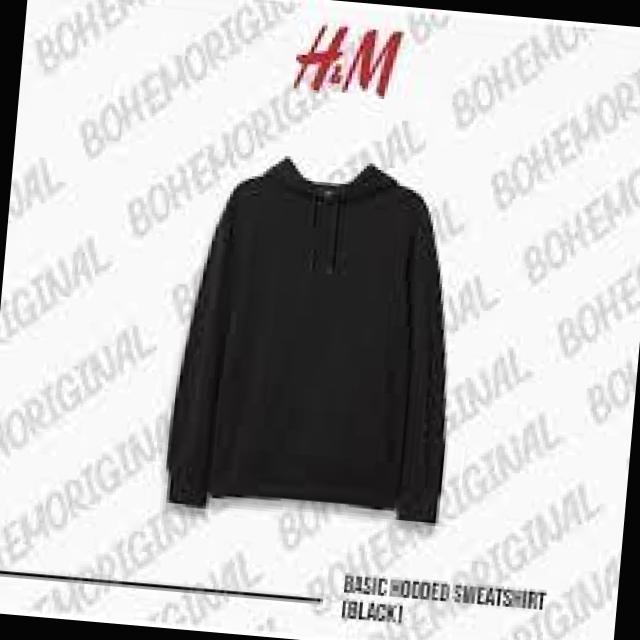sweater: (135, 144, 494, 552)
